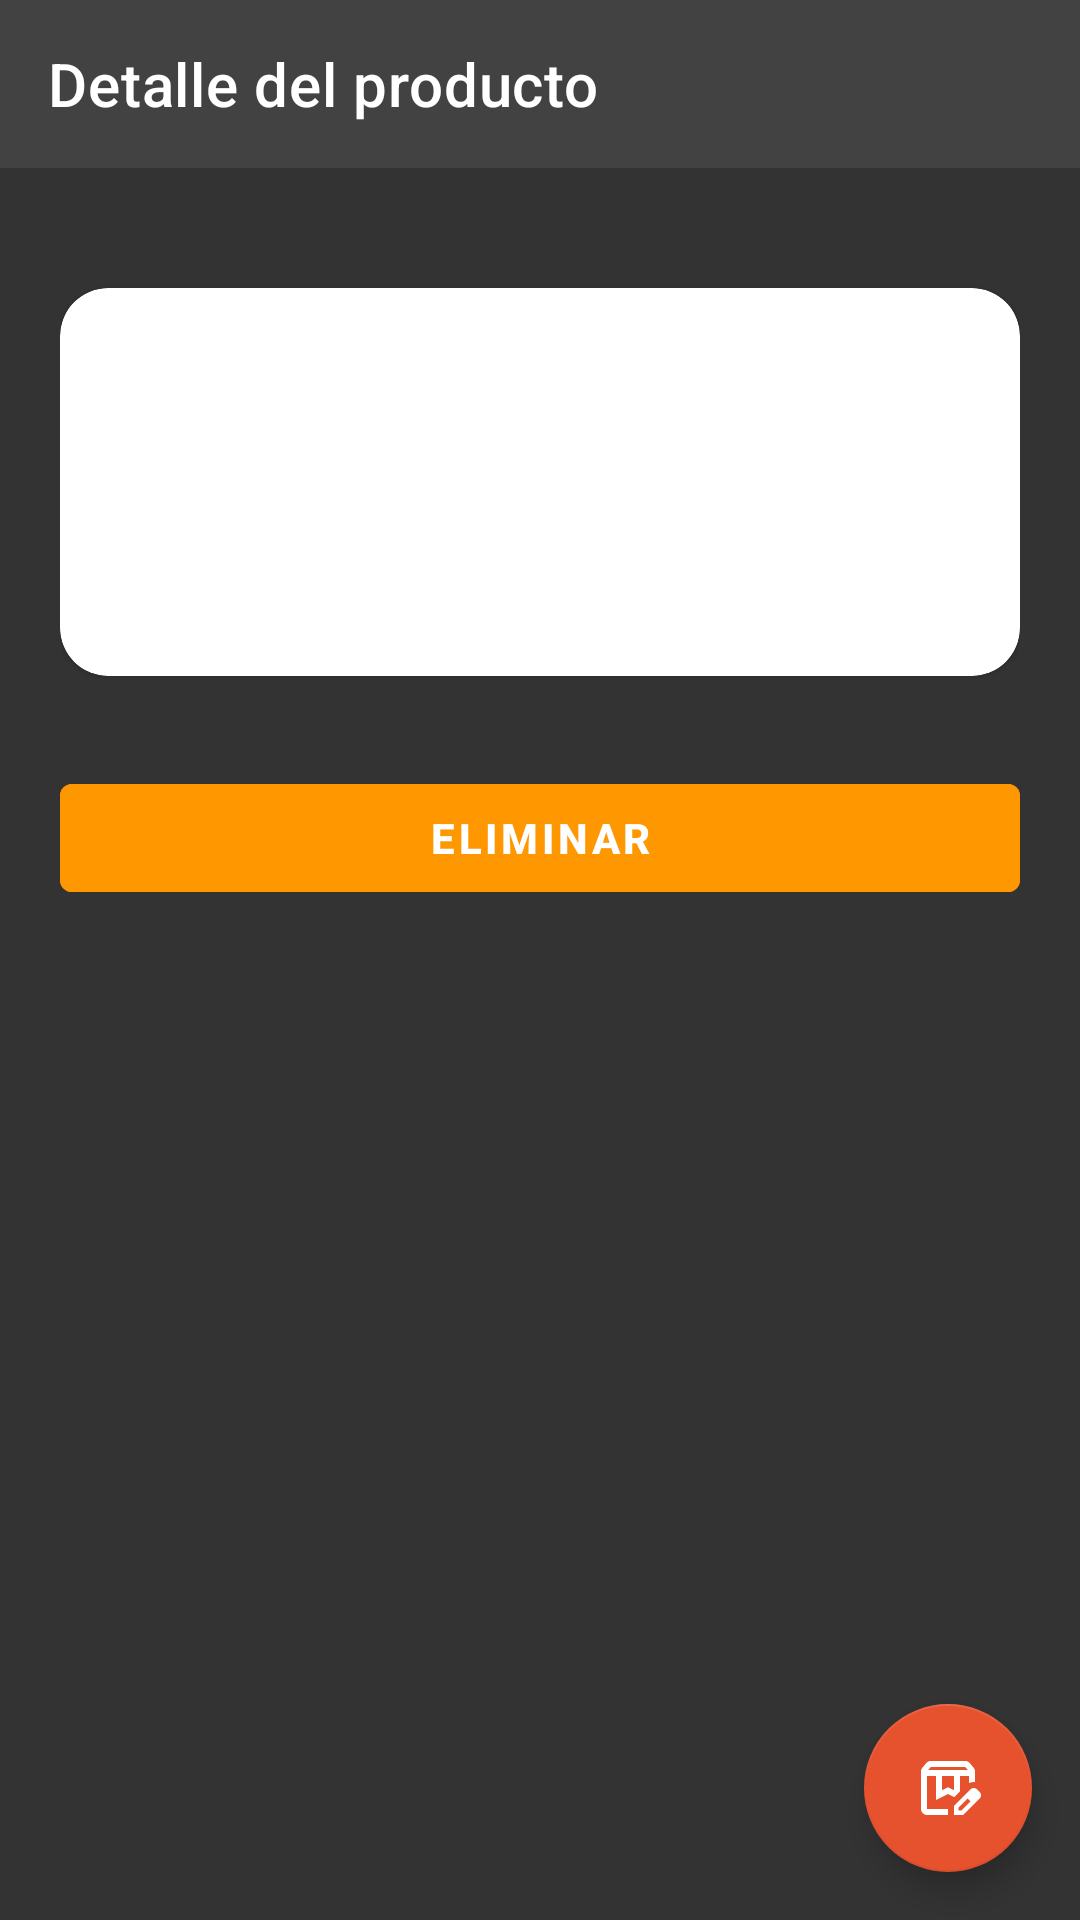

Point at icon controls on the screen. Image size 1080w x 1920h, points as (x,y).
edit: (948,1788)
